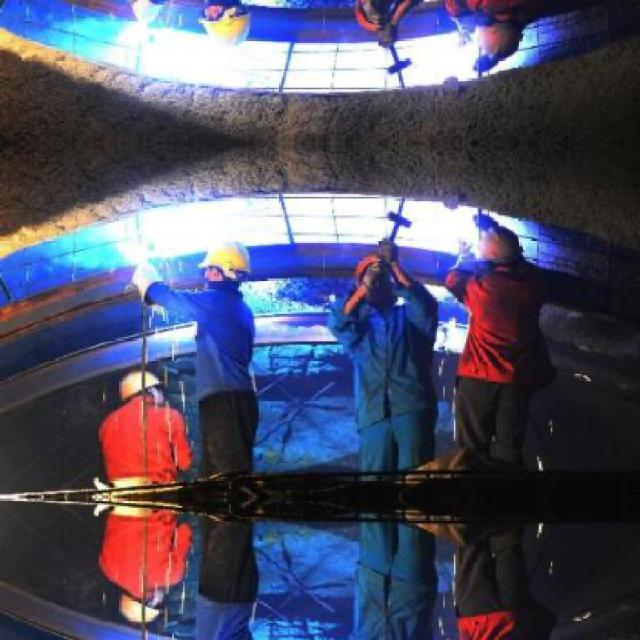con casco: (350, 235, 428, 304), (194, 235, 253, 309), (467, 220, 536, 282)
